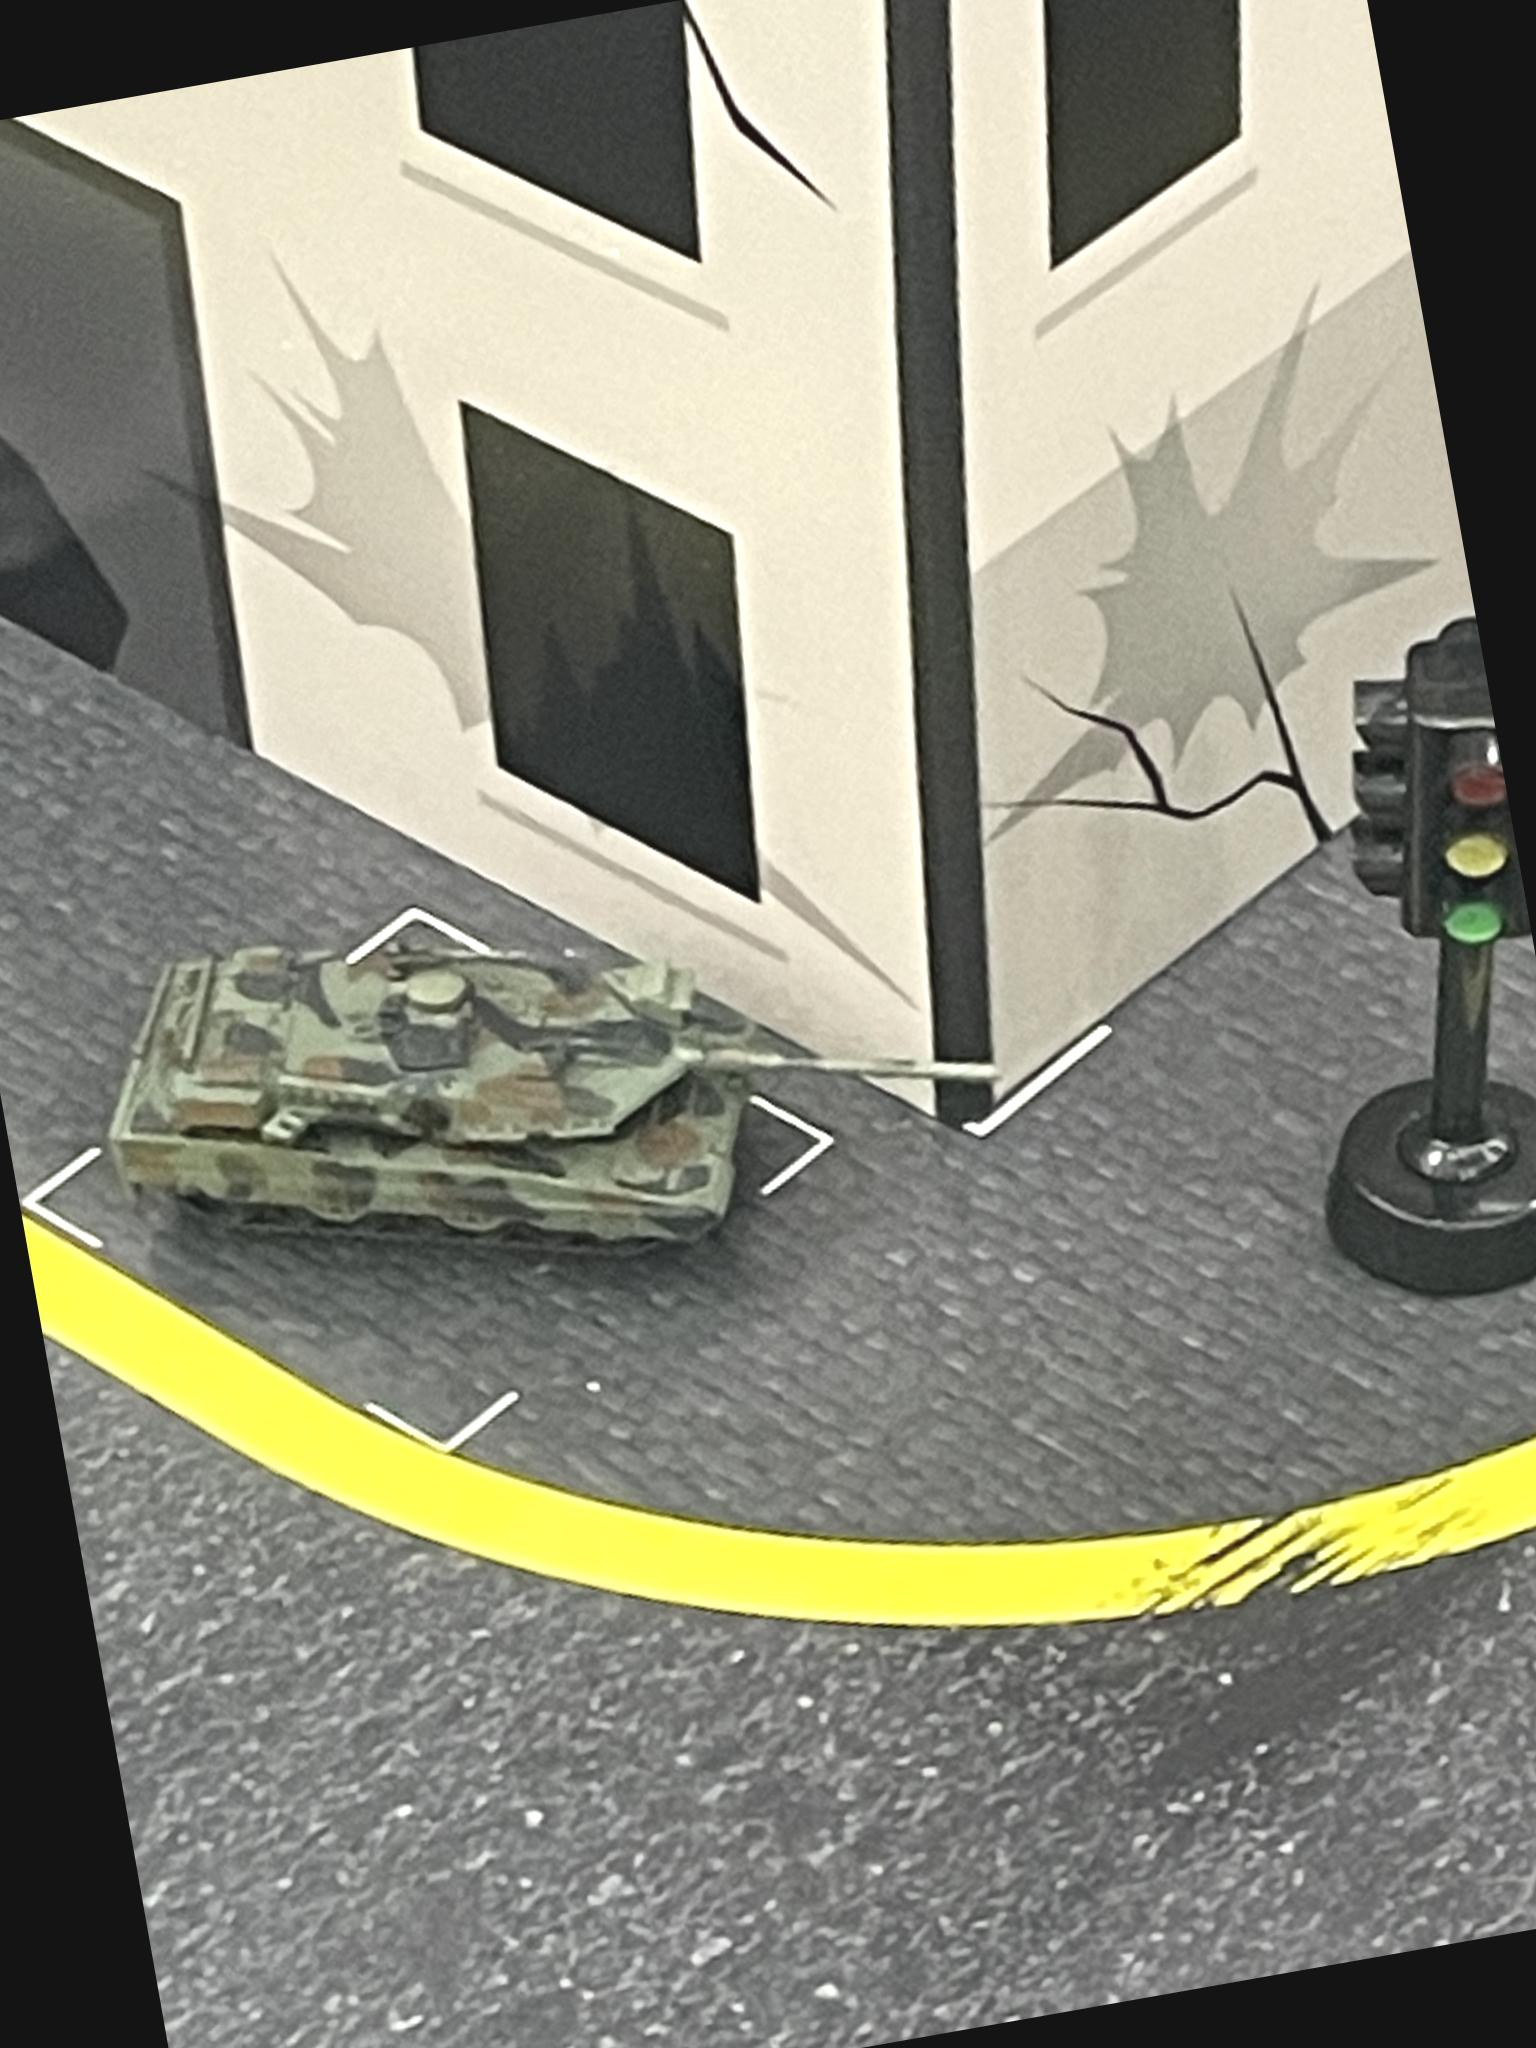Tank: (79, 800, 1034, 1351)
